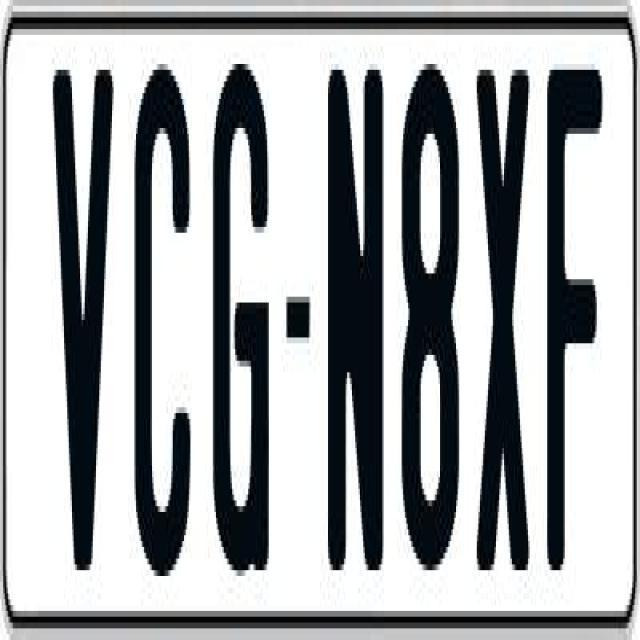8: (402, 58, 462, 588)
C: (130, 58, 186, 576)
F: (546, 58, 602, 582)
G: (210, 58, 270, 576)
N: (327, 70, 382, 606)
V: (48, 70, 110, 588)
X: (475, 63, 533, 600)
